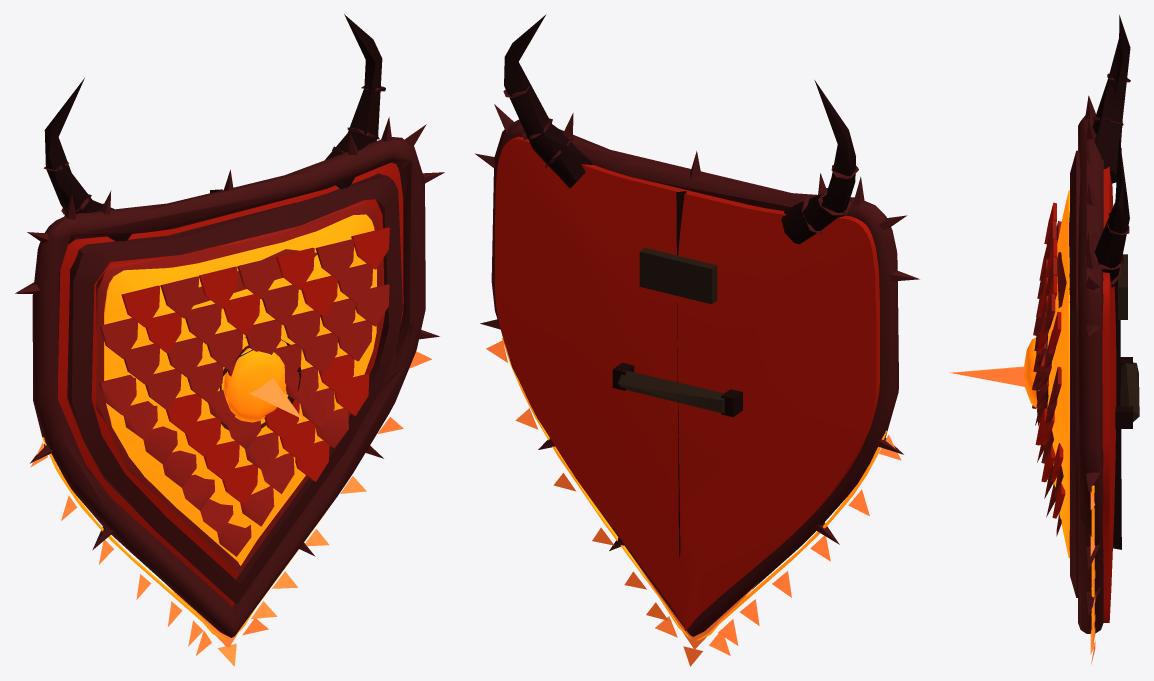
The model's file is greatshield_4.glb.
3 renders of one model, left to right at view 1: azimuth 30°, elevation 25°; view 2: azimuth 150°, elevation 25°; view 3: azimuth 270°, elevation 25°, orthographic. The views are drawn at different scales.
Parts seen in each view (by area): view 1: greatshield_4; view 2: greatshield_4; view 3: greatshield_4.
Part boxes in pixels (<box>): greatshield_4: <box>15,14,444,666</box>; greatshield_4: <box>475,14,919,666</box>; greatshield_4: <box>949,15,1139,665</box>.
Size of the model in its own units: 0.8645 by 1.17 by 0.3428.
